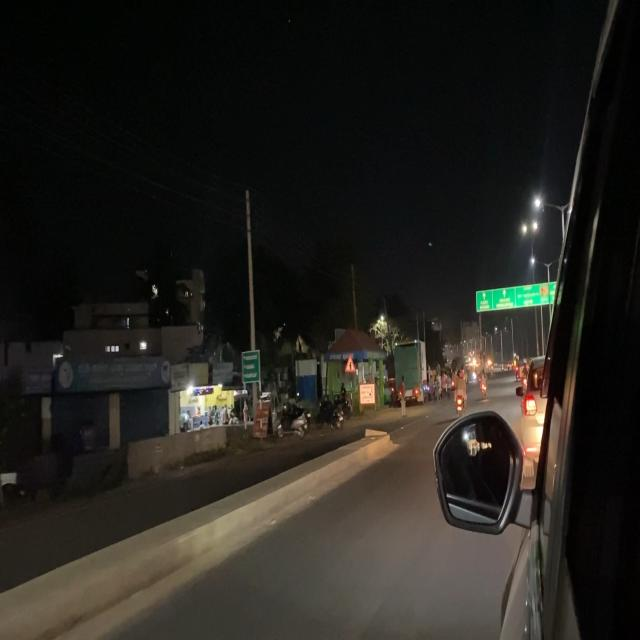bien_cam: (345, 354, 356, 374)
